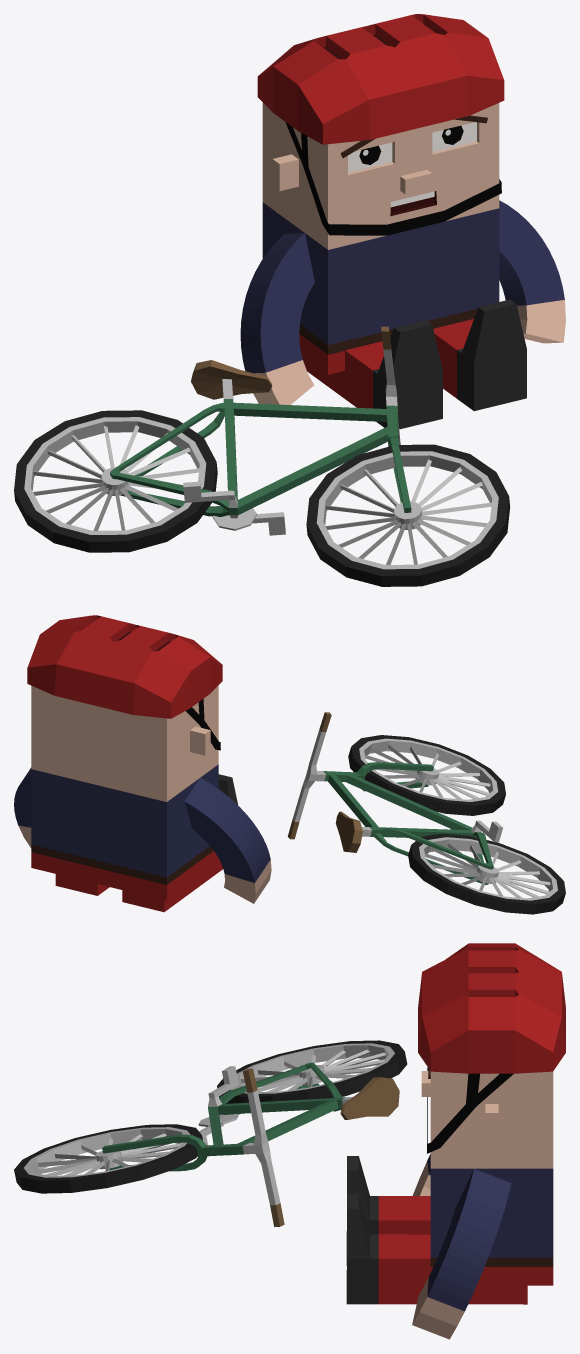
The model's file is pad_z_kola.fbx.
The picture shows the model from 3 angles, top to bottom: view 1: azimuth 30°, elevation 25°; view 2: azimuth 150°, elevation 25°; view 3: azimuth 270°, elevation 25°; orthographic projection. The views are drawn at different scales.
Parts seen in each view (by area): view 1: cyklista, kolo; view 2: cyklista, kolo; view 3: cyklista, kolo.
Part boxes in pixels (x1,y1,x2,y2): cyklista: [240, 14, 565, 429]; kolo: [14, 326, 509, 586]; cyklista: [14, 615, 271, 912]; kolo: [287, 712, 565, 914]; cyklista: [346, 943, 565, 1339]; kolo: [14, 1040, 407, 1226].
Size of the model in its own units: 384 by 200 by 327.
